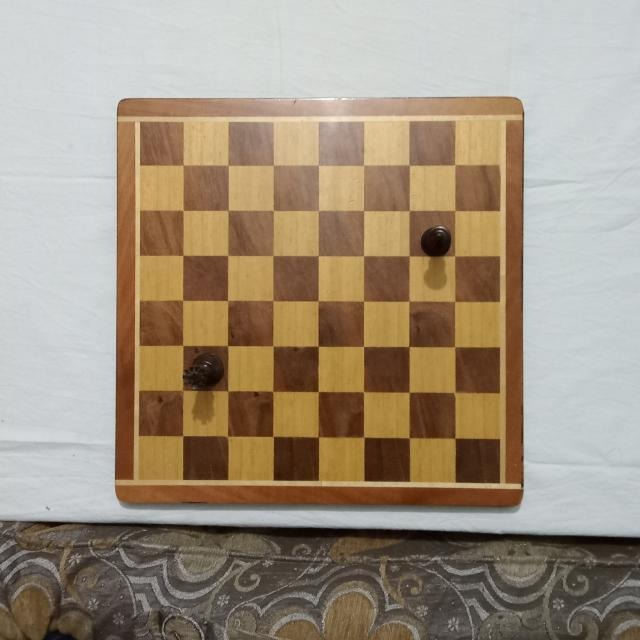black-king: (419, 222, 453, 257)
black-queen: (181, 351, 225, 391)
